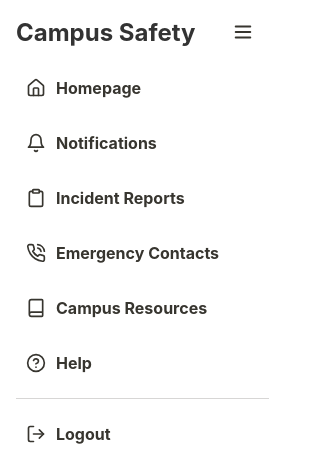
Sidebar Component › sidebar toggle functionality
The width and height of the screenshot is (320, 461).
Check: the heading "Campus Safety" is shown, box top-left (16, 18), bottom-right (196, 46)
// Click the toggle button
Click the button: (243, 32) top-left (227, 16), bottom-right (259, 48)
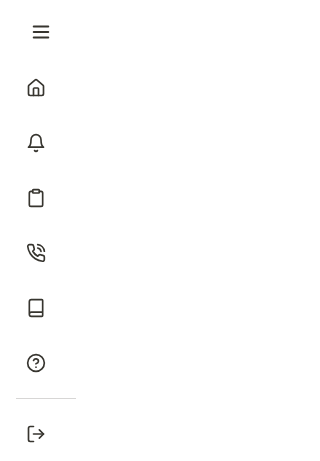
Check: the heading "Campus Safety" is gone
